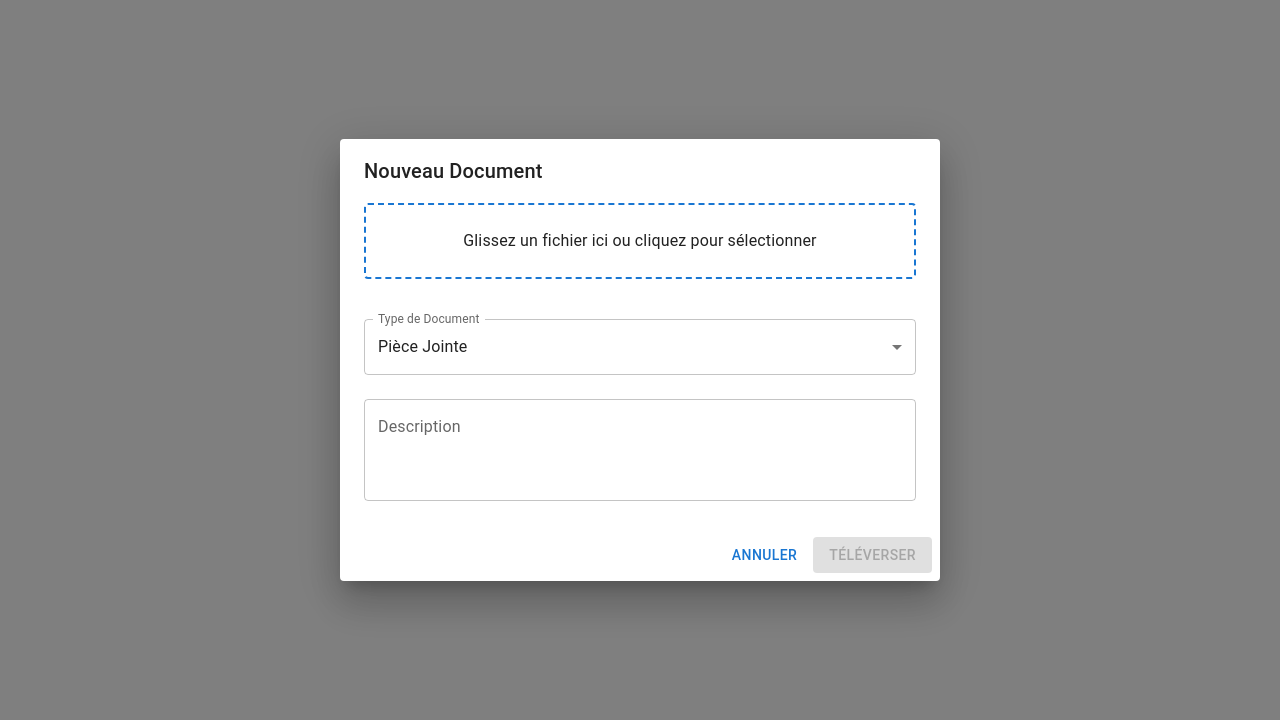
DocumentUploadDialog › permet la sélection du type de document
The image size is (1280, 720).
Press the mouse on the dropdown named "Type de Document" at [423, 347], box [378,337,468,356]
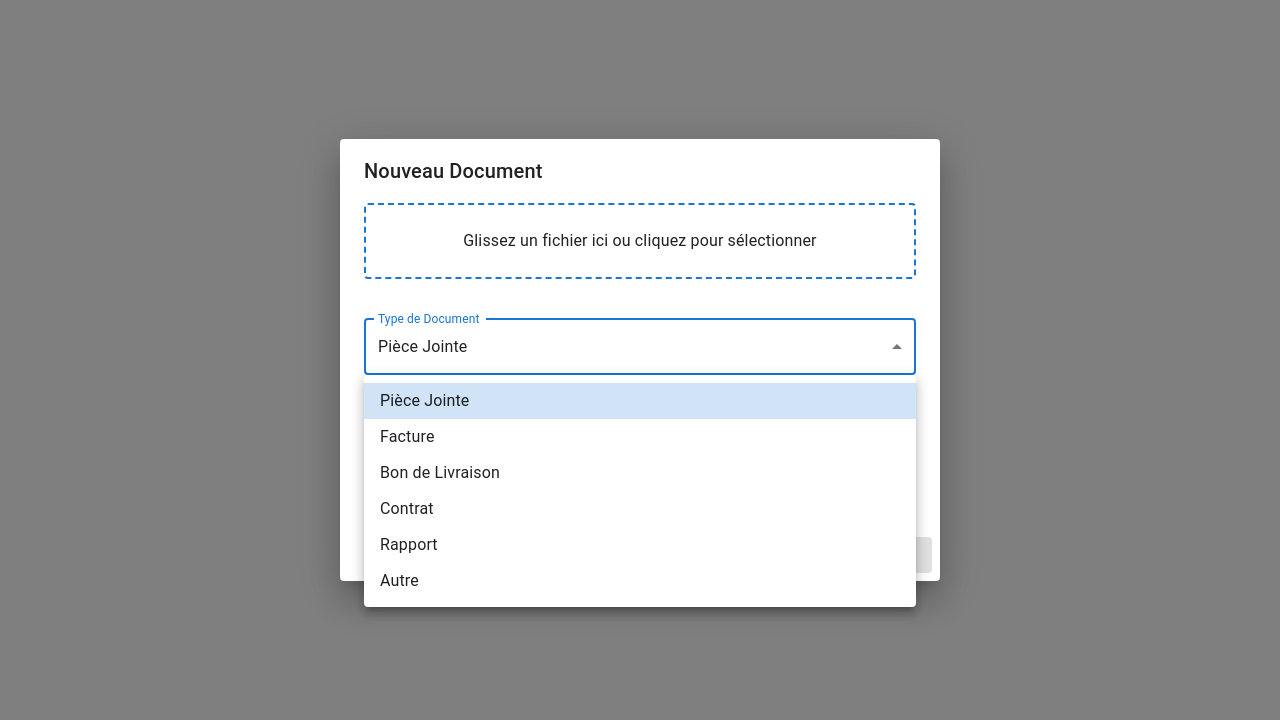
Now the option "Facture" is shown, box [380,427,434,446]
Now the option "Contrat" is shown, box [380,499,434,518]
Now the option "Rapport" is shown, box [380,535,438,554]
